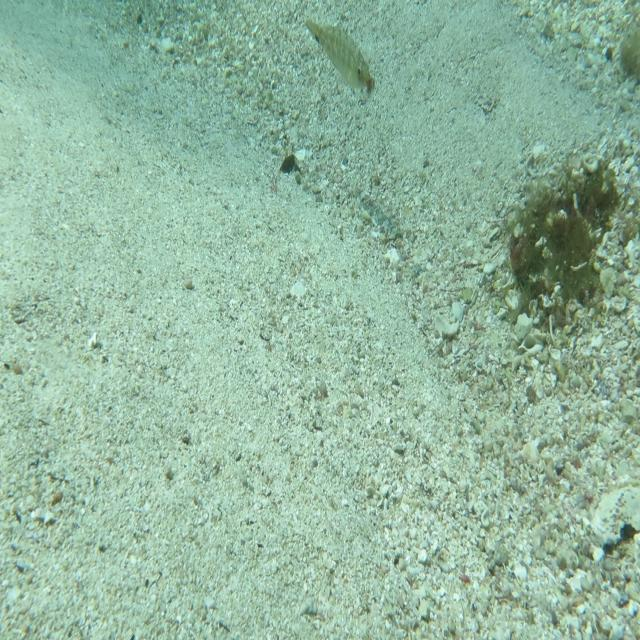AM: (303, 15, 374, 94)
core_nest: (578, 166, 613, 202)
nest: (506, 149, 622, 336)
nest_material: (366, 77, 376, 98)
vegetation: (618, 20, 640, 91), (281, 150, 298, 177)
